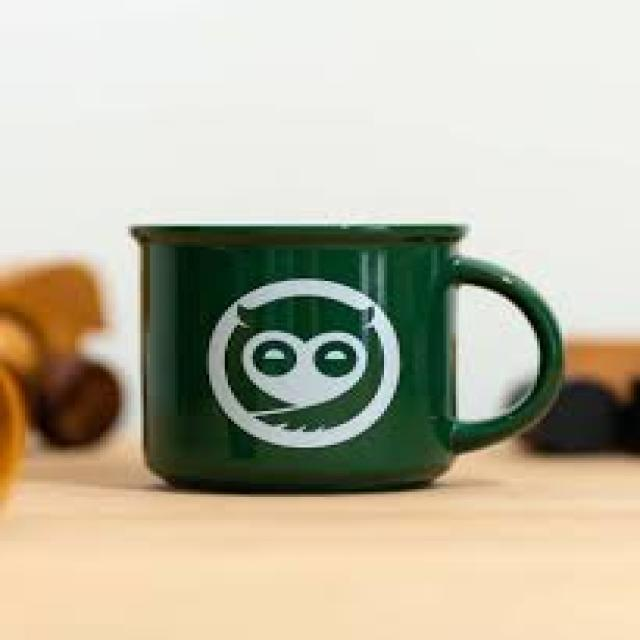taza: (129, 222, 564, 498)
